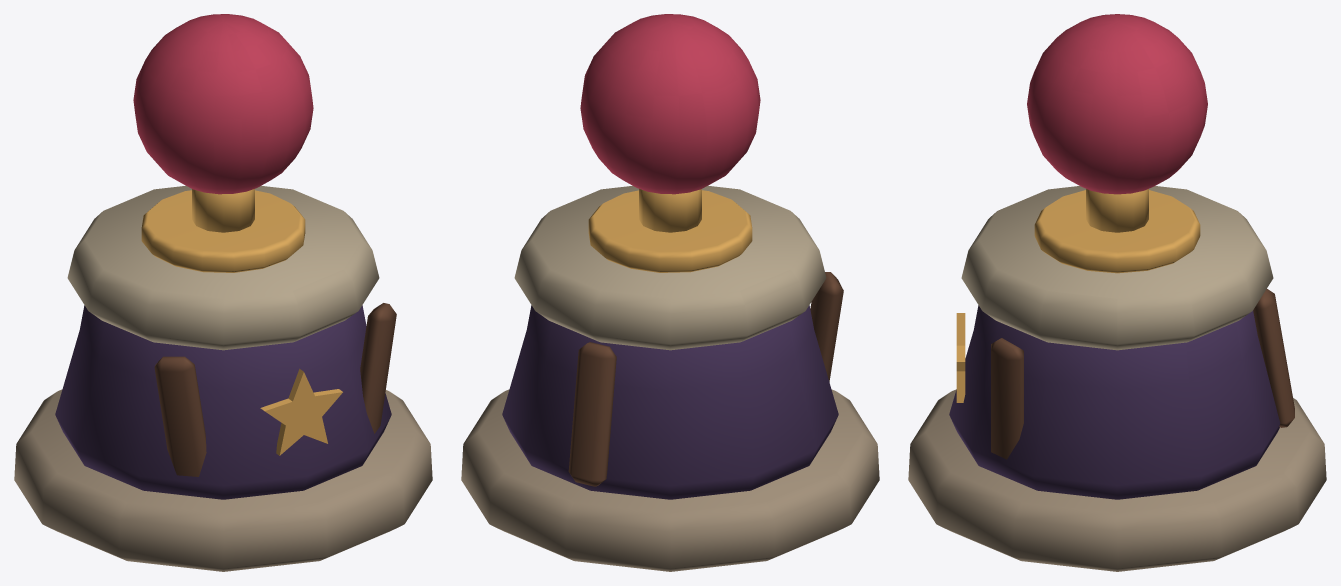
File: joystick-bollard.glb
3 renders of one model, left to right at view 1: azimuth 30°, elevation 25°; view 2: azimuth 150°, elevation 25°; view 3: azimuth 270°, elevation 25°, orthographic.
Parts seen in each view (by area): view 1: joystick-bollard; view 2: joystick-bollard; view 3: joystick-bollard.
Boxes of the visible parts, x1,y1,x2,y2 form: joystick-bollard: (14,14,432,571); joystick-bollard: (461,14,879,571); joystick-bollard: (908,14,1326,571).
Size of the model in its own units: 0.85 by 1.05 by 0.85.
